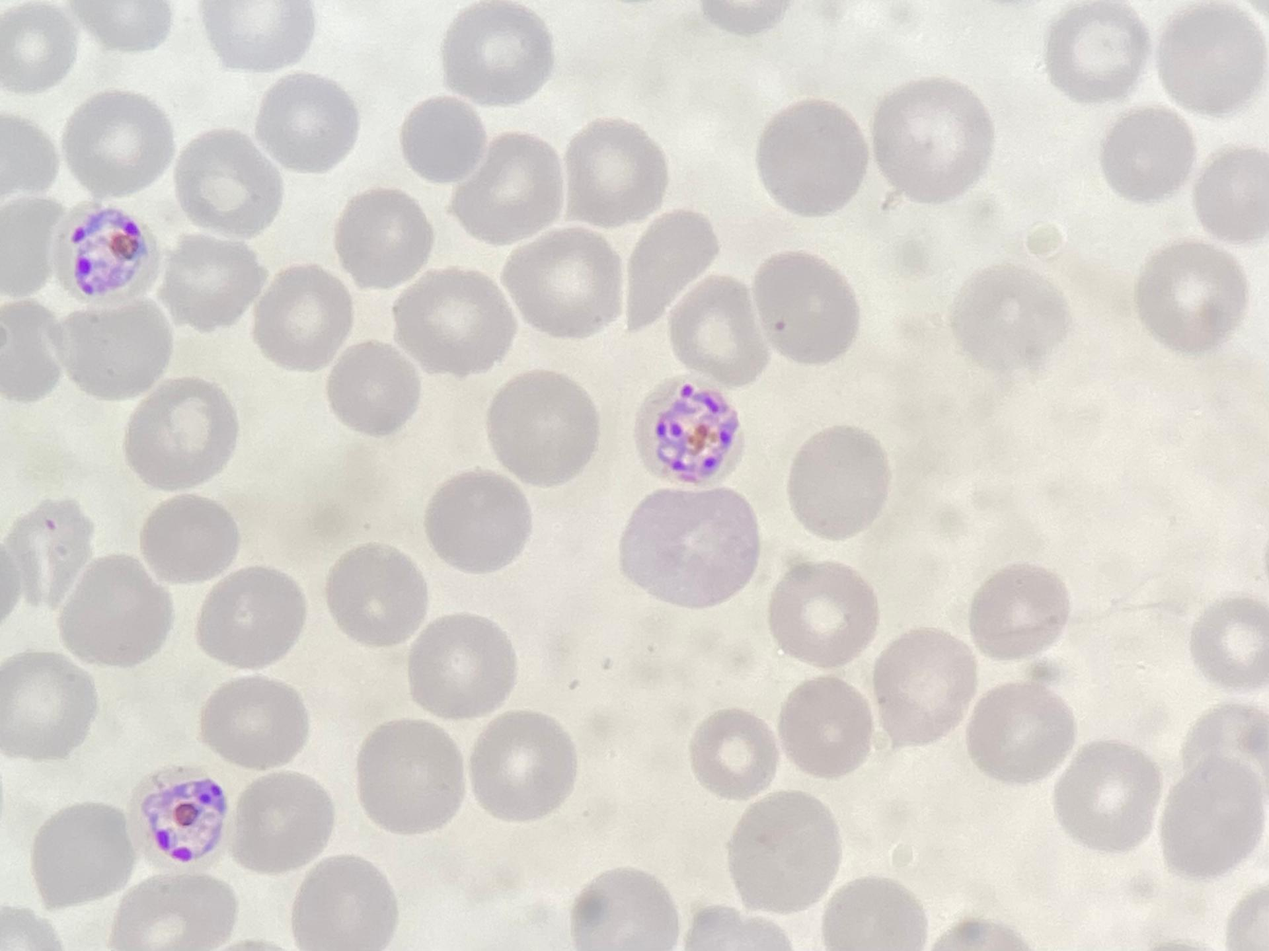Infected: (525, 463, 631, 572), (1112, 645, 1214, 747), (1041, 82, 1141, 183)
Uninfected: (267, 745, 402, 874), (508, 342, 644, 462), (3, 70, 111, 208), (22, 591, 134, 715), (427, 39, 542, 159), (192, 578, 311, 691), (406, 584, 519, 700), (644, 613, 761, 724), (1094, 282, 1208, 395), (753, 573, 870, 682), (403, 737, 508, 858), (701, 704, 812, 818), (802, 117, 913, 229), (669, 466, 779, 578), (1093, 550, 1211, 654), (1029, 461, 1141, 569), (377, 411, 484, 523), (108, 97, 216, 207), (985, 713, 1093, 823), (1132, 37, 1238, 149), (548, 619, 646, 740), (291, 207, 397, 318), (192, 166, 304, 271), (3, 834, 108, 945), (389, 284, 500, 389), (499, 563, 603, 674), (599, 724, 705, 832), (1093, 755, 1202, 859), (714, 847, 826, 948), (735, 376, 843, 480), (933, 77, 1039, 182), (750, 231, 857, 334), (963, 282, 1072, 383), (1171, 188, 1269, 296), (394, 173, 496, 276), (840, 304, 942, 406), (915, 580, 1015, 683), (907, 777, 1011, 876), (118, 847, 222, 946), (958, 180, 1066, 274), (1003, 619, 1106, 716), (1174, 340, 1262, 453), (198, 289, 300, 386), (835, 660, 933, 760), (1026, 365, 1130, 459), (870, 1, 976, 93), (694, 137, 795, 232), (1032, 1, 1155, 78), (847, 514, 944, 609), (72, 746, 166, 844), (779, 765, 870, 858), (589, 1, 694, 81), (489, 151, 581, 242), (1, 257, 80, 352), (0, 705, 77, 801), (952, 880, 1060, 948), (341, 1, 442, 71), (1190, 860, 1268, 946)
